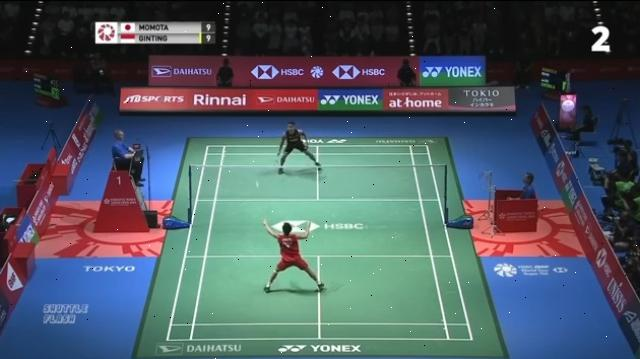Shuttlecock: (251, 179, 263, 190)
